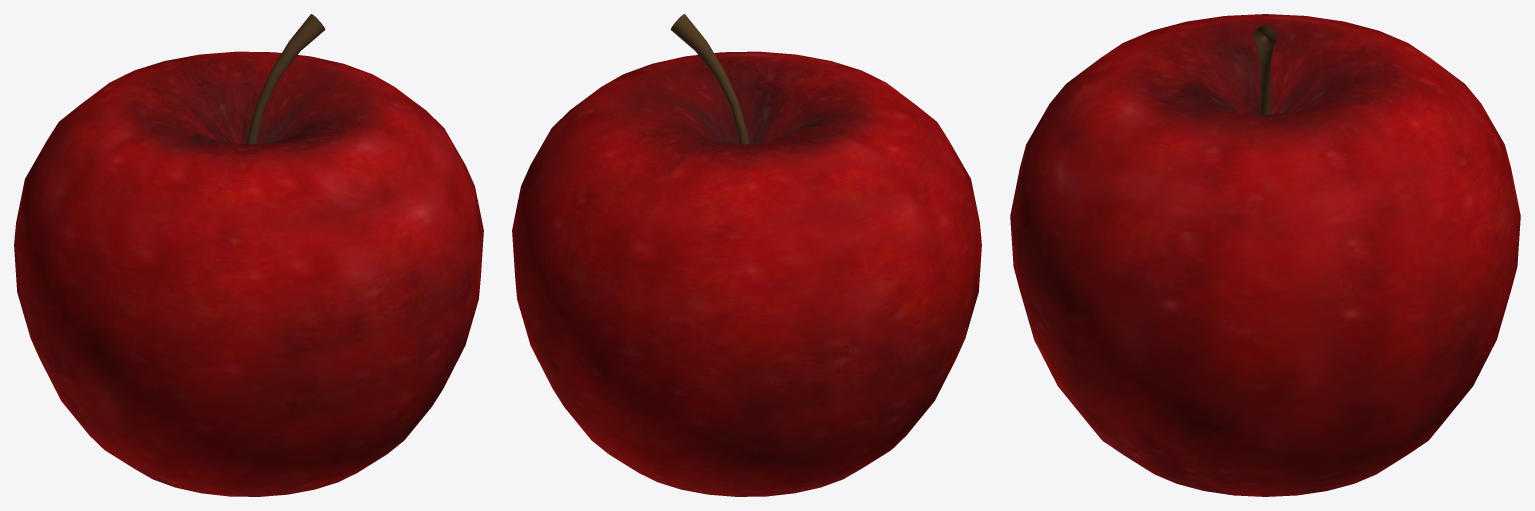
The model's file is apple.obj.
The picture shows the model from 3 angles, left to right: view 1: azimuth 30°, elevation 25°; view 2: azimuth 150°, elevation 25°; view 3: azimuth 270°, elevation 25°; orthographic projection. The views are drawn at different scales.
Parts seen in each view (by area): view 1: apple; view 2: apple; view 3: apple.
Part boxes in pixels (box(x1,y1,x2,y2)): apple: box(14, 14, 483, 496); apple: box(512, 14, 981, 496); apple: box(1010, 14, 1520, 496).
Bounding box in the file's own units: 3.99 × 3.94 × 3.99.
Materials: 2 (1 with a texture image).
